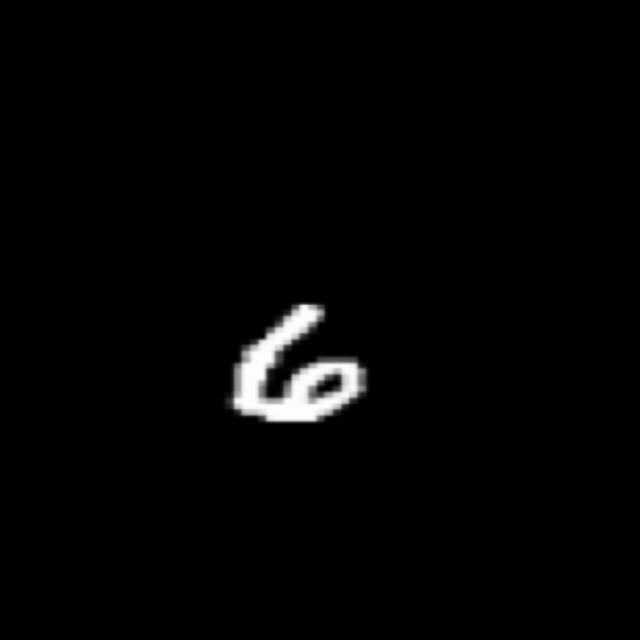six -6-: (213, 292, 379, 432)
